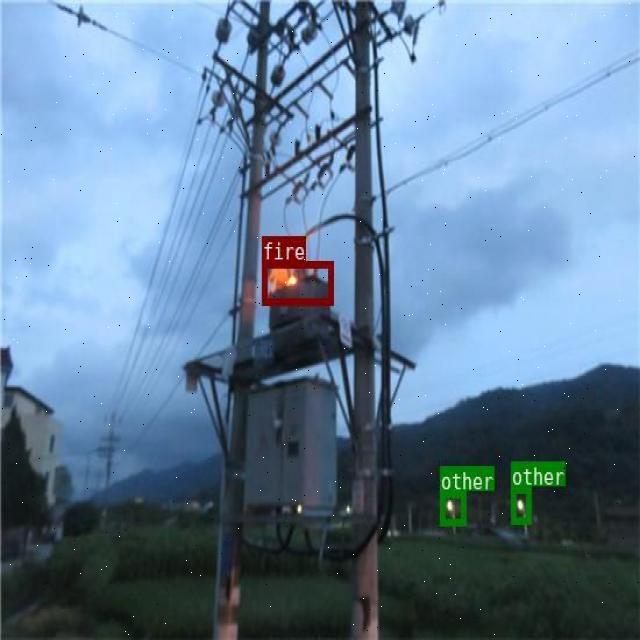fire: (261, 261, 333, 305)
